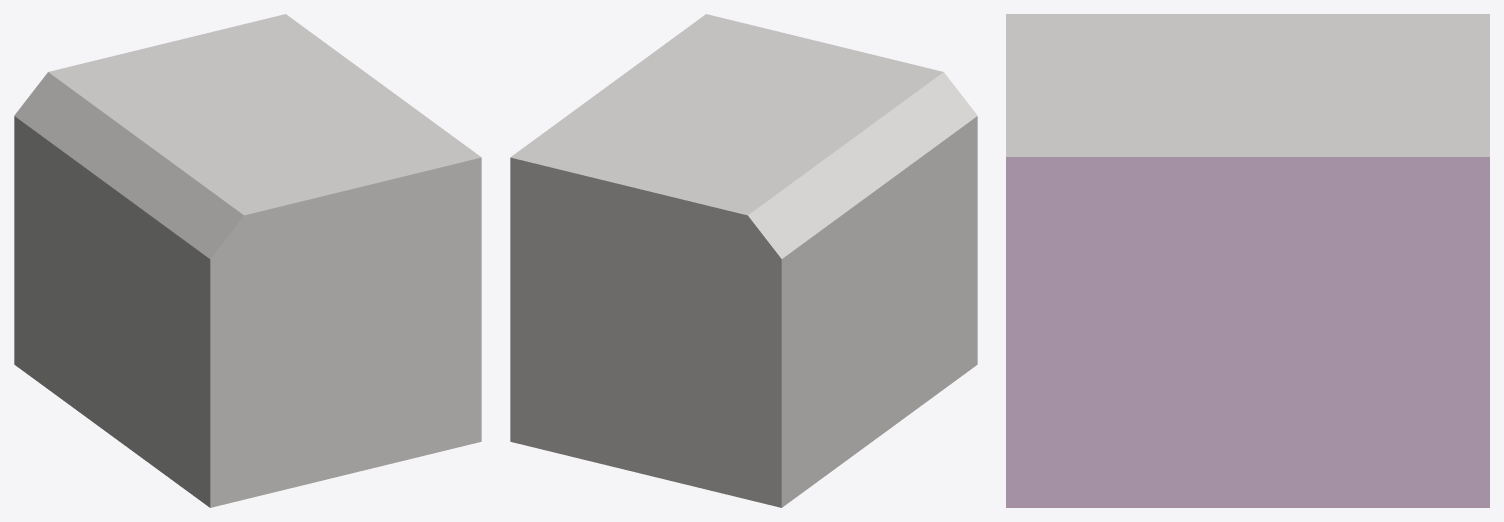
File: Path_Edging_Stones_End_1x1.glb
The picture shows the model from 3 angles, left to right: view 1: azimuth 30°, elevation 25°; view 2: azimuth 150°, elevation 25°; view 3: azimuth 270°, elevation 25°; orthographic projection. The views are drawn at different scales.
Parts seen in each view (by area): view 1: Path_Edging_Stones_End_1x1; view 2: Path_Edging_Stones_End_1x1; view 3: Path_Edging_Stones_End_1x1.
Part boxes in pixels (box(x1,y1,x2,y2)): Path_Edging_Stones_End_1x1: box(14, 14, 481, 507); Path_Edging_Stones_End_1x1: box(510, 14, 977, 507); Path_Edging_Stones_End_1x1: box(1006, 14, 1489, 507).
Size of the model in its own units: 25 by 25 by 31.25.
